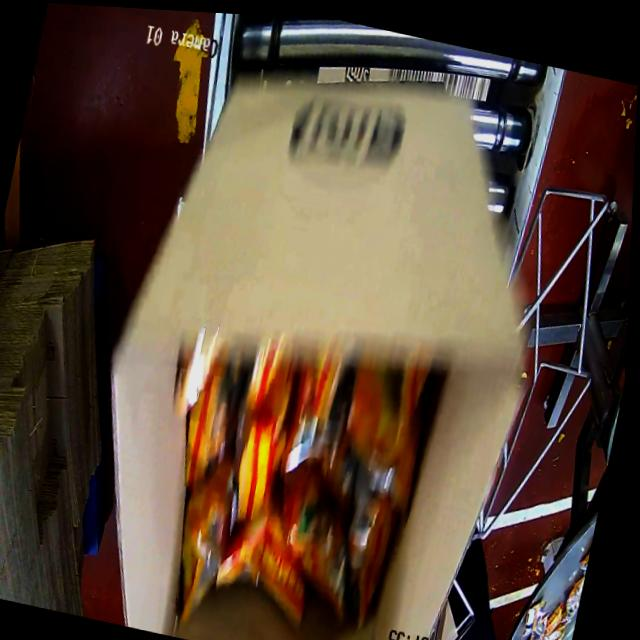FRENCH_CHEESE: (137, 305, 440, 640)
